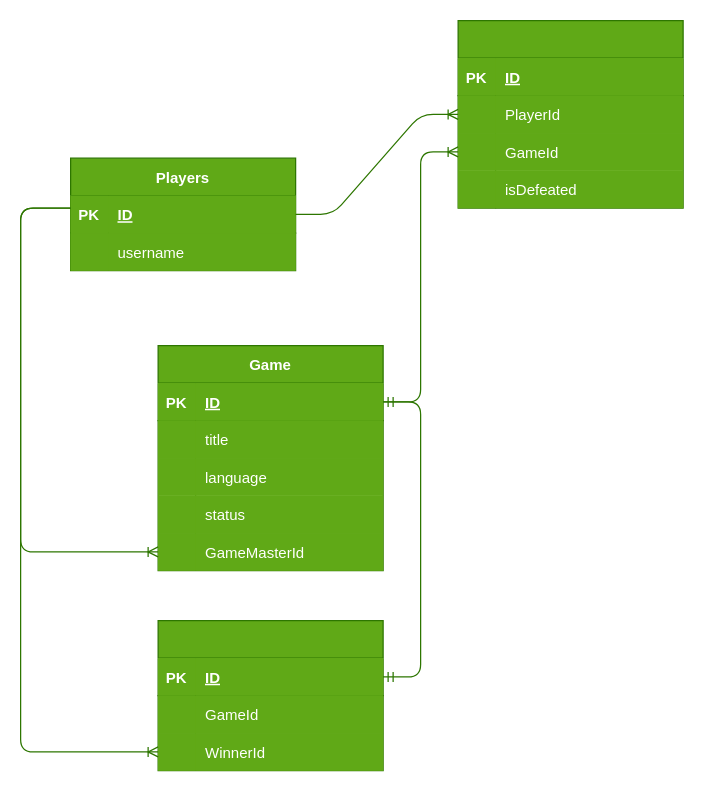
Image size: 704x791. Some labels were removed from this diagram. The shapes that lost their labels are listed below. From the top down, each one's box as (x1, y1, x2, y2) in pixels, then its label:
(457, 19, 683, 208): GamePlayer
(157, 619, 383, 771): GameResult
